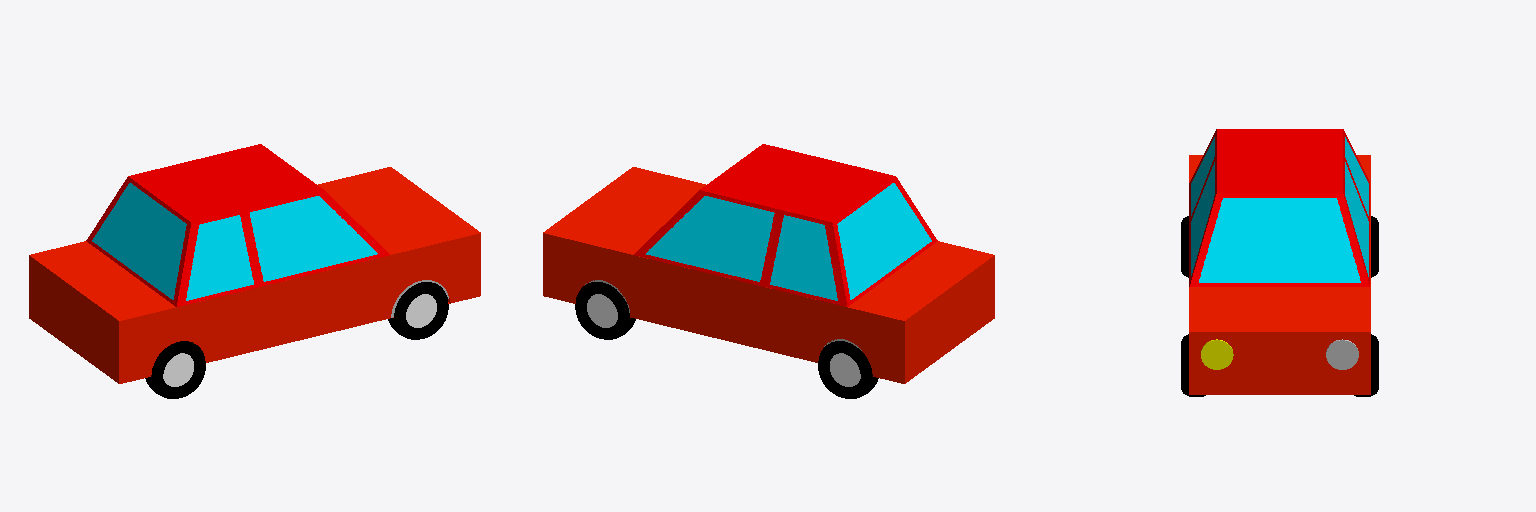
The picture shows the model from 3 angles: view 1: azimuth 30°, elevation 25°; view 2: azimuth 150°, elevation 25°; view 3: azimuth 270°, elevation 25°; orthographic projection.
Visible parts, largest first — view 1: framework, cabin, wheel_2, wheel_1; view 2: framework, cabin, wheel_4, wheel_3; view 3: cabin, framework, right_light, left_light.
Boxes of the visible parts, x1=… form: framework: x1=29, y1=167, x2=480, y2=383; cabin: x1=86, y1=144, x2=389, y2=306; wheel_2: x1=145, y1=341, x2=205, y2=398; wheel_1: x1=388, y1=282, x2=448, y2=339; framework: x1=543, y1=167, x2=994, y2=383; cabin: x1=634, y1=144, x2=937, y2=306; wheel_4: x1=818, y1=341, x2=878, y2=398; wheel_3: x1=575, y1=282, x2=635, y2=339; cabin: x1=1189, y1=129, x2=1369, y2=286; framework: x1=1189, y1=155, x2=1370, y2=394; right_light: x1=1326, y1=339, x2=1358, y2=369; left_light: x1=1201, y1=339, x2=1233, y2=369.
Bounding box in the file's own units: 12.06 × 5.08 × 5.66.
Materials: 5 (4 with a texture image).